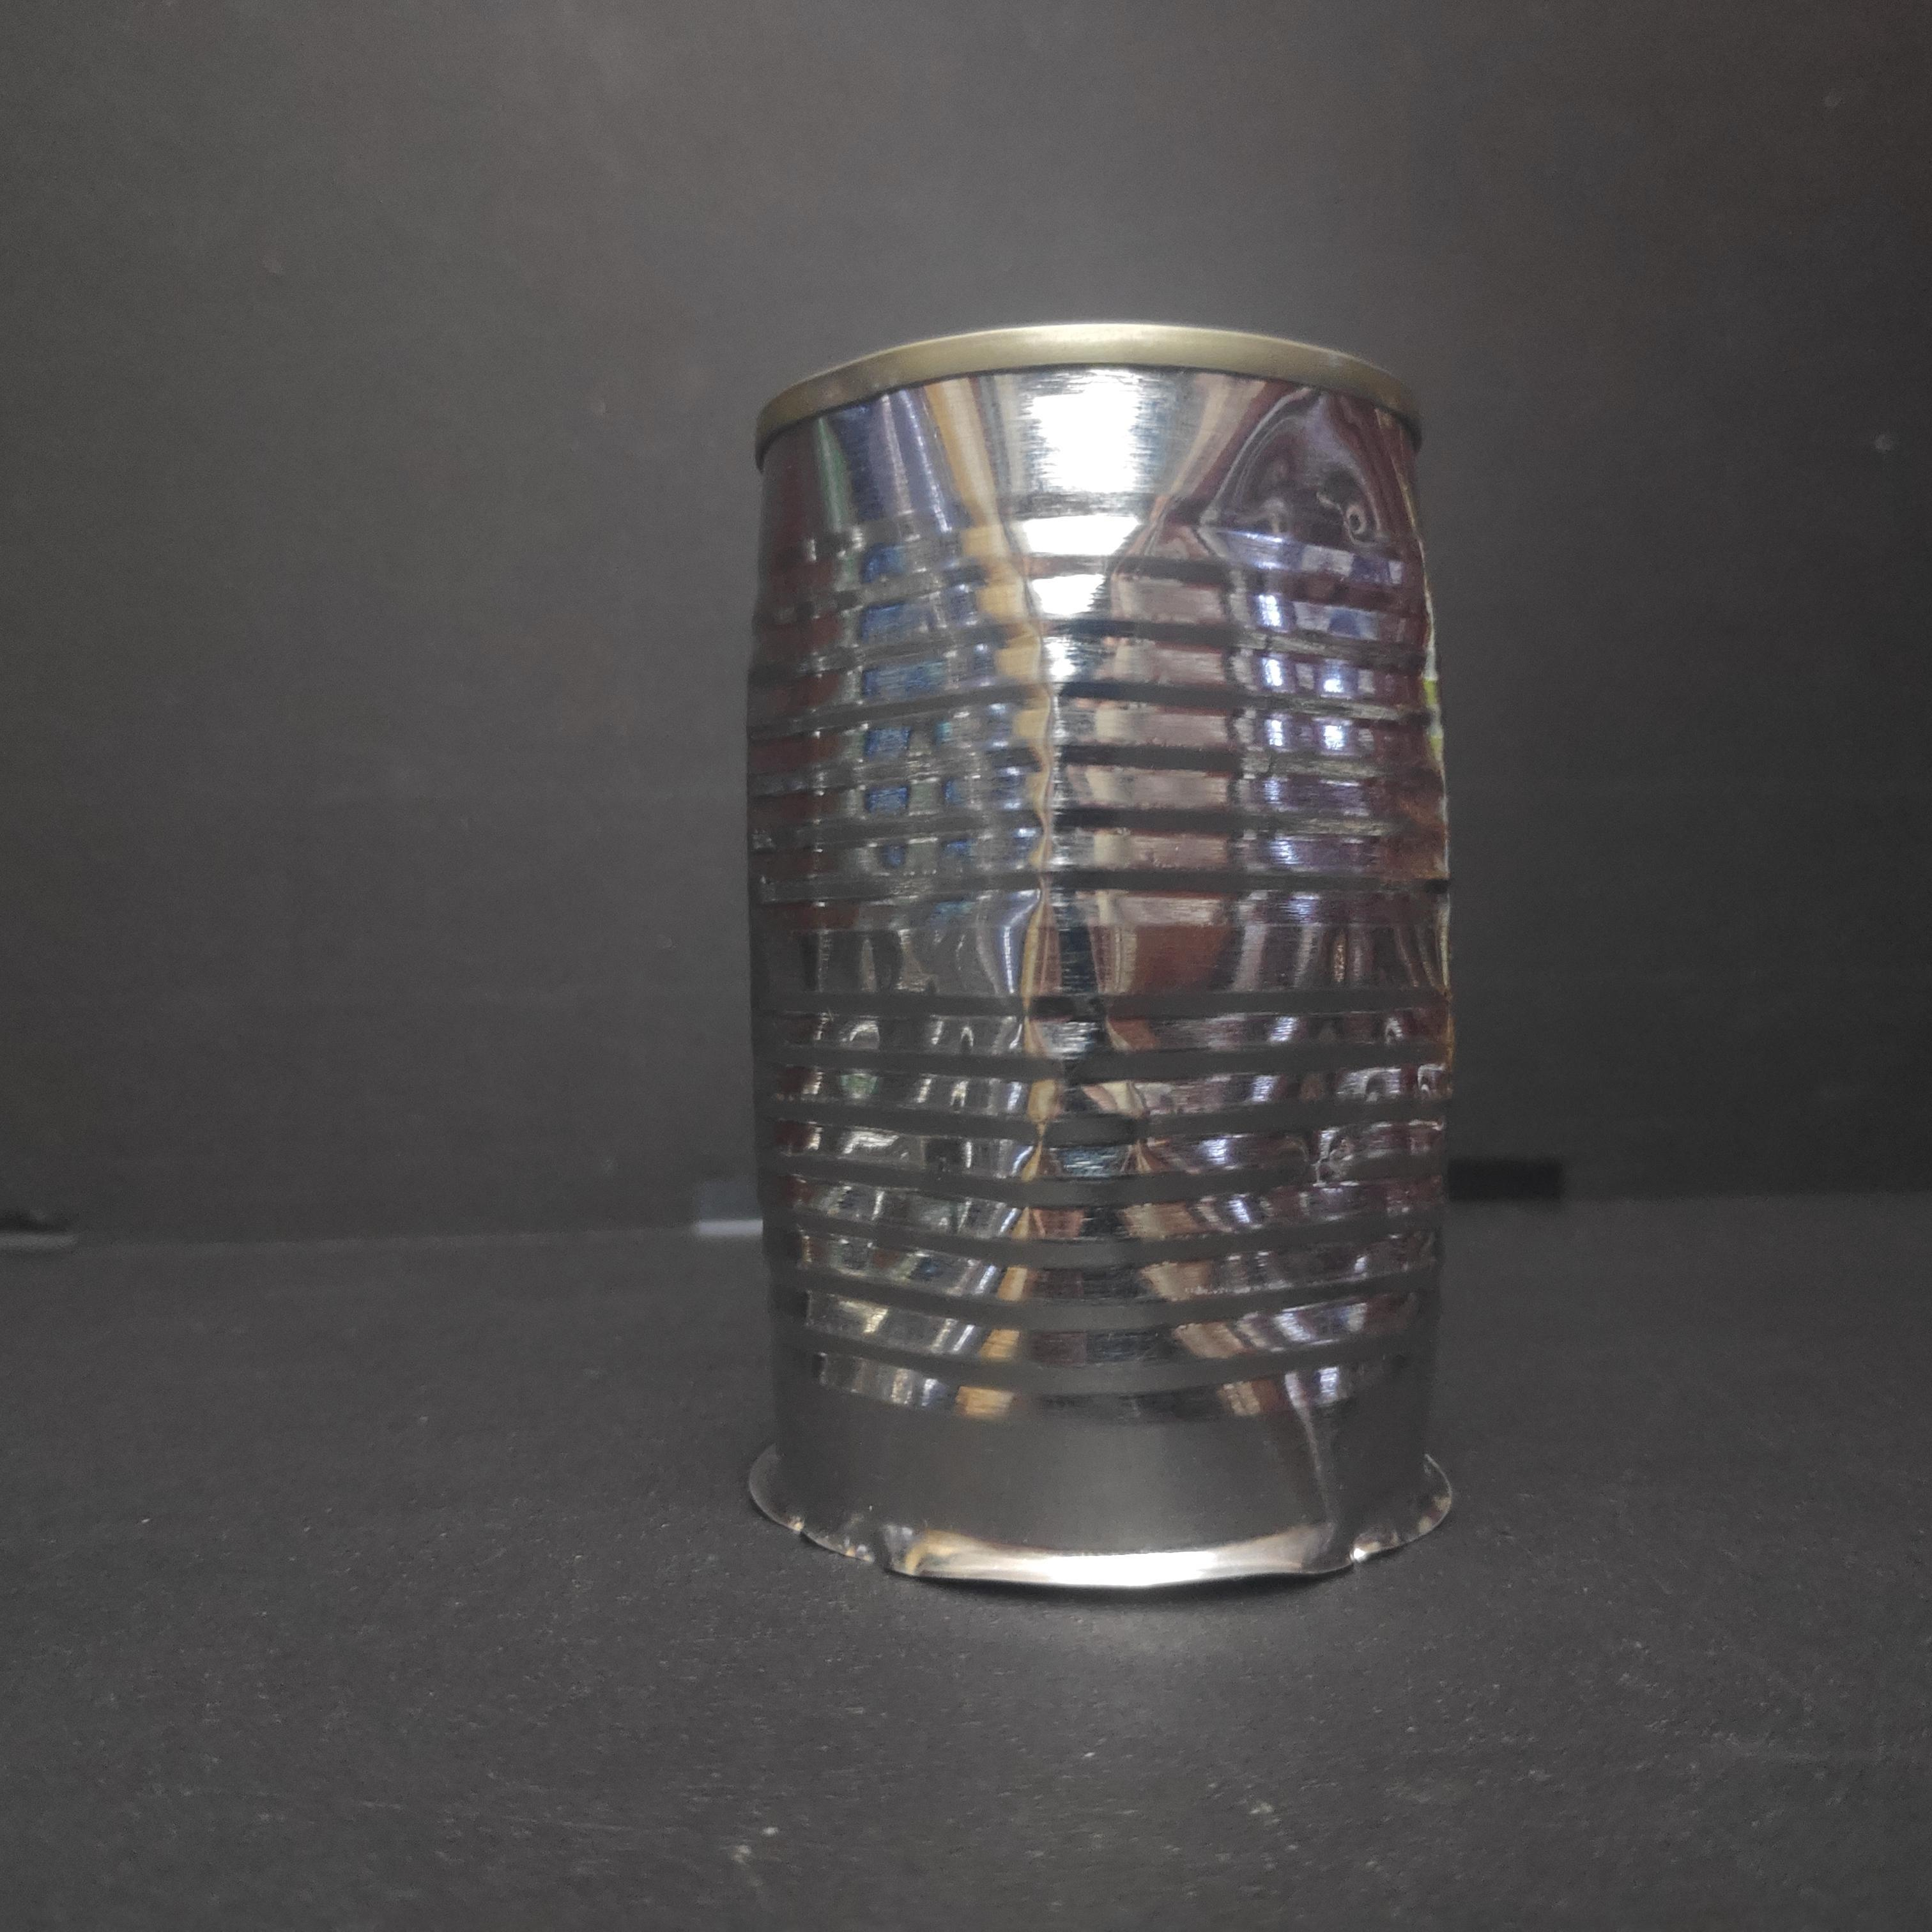Dented: (718, 294, 1499, 1622)
